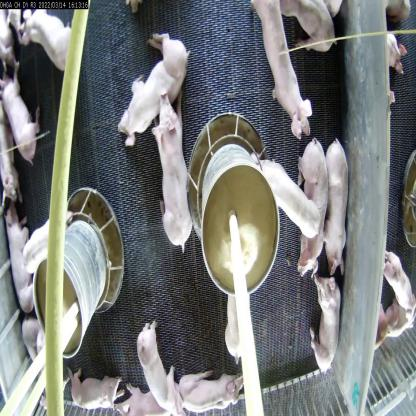Pig: (252, 0, 312, 147), (122, 28, 190, 157), (0, 62, 53, 195), (252, 146, 326, 240), (157, 85, 198, 253), (308, 264, 352, 391), (3, 216, 46, 326), (21, 6, 80, 86), (293, 157, 333, 268), (128, 330, 176, 416), (174, 362, 249, 415), (63, 363, 126, 415), (220, 288, 254, 382), (332, 144, 352, 266)
